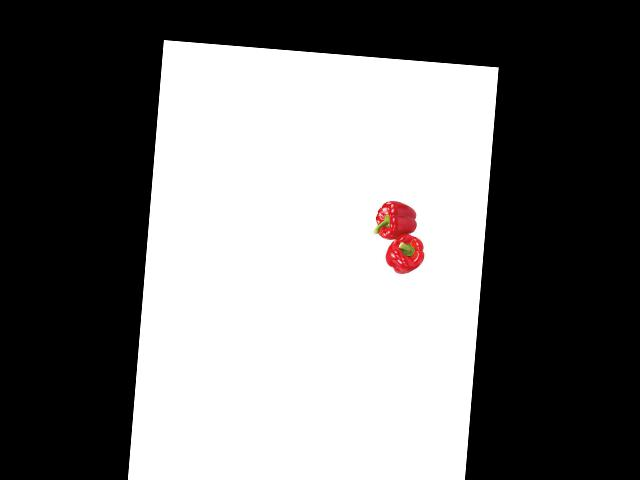bell_pepper: (371, 198, 421, 243)
